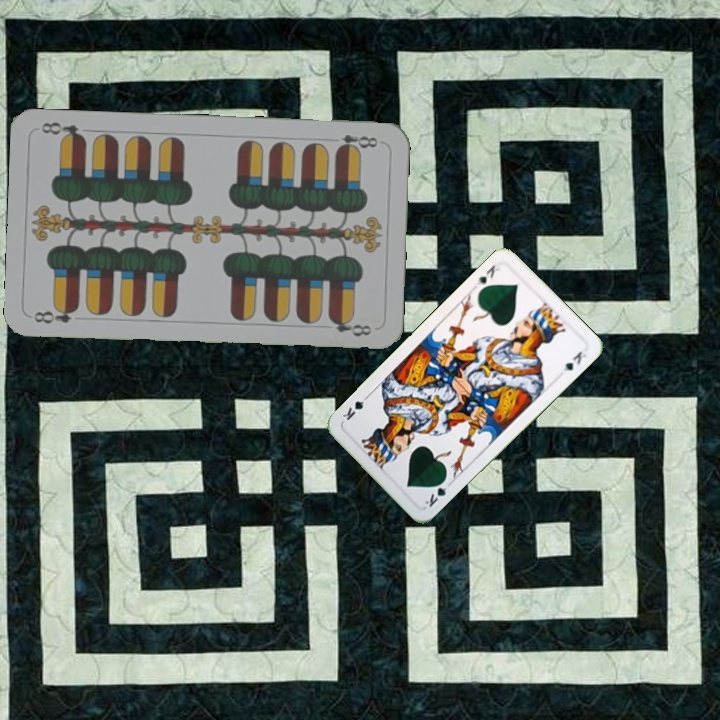E8: (30, 302, 81, 327), (332, 130, 381, 154)
GK: (420, 474, 454, 510), (473, 261, 504, 290)
